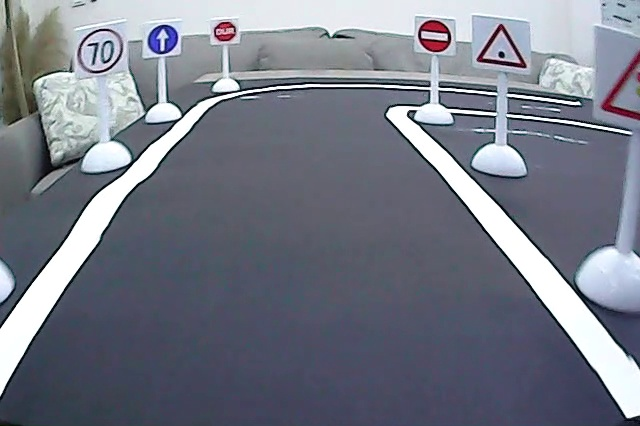do not enter: (415, 19, 455, 54)
green light: (474, 20, 530, 72)
speed limit 70: (77, 25, 126, 76)
stop sign: (211, 19, 239, 43)
